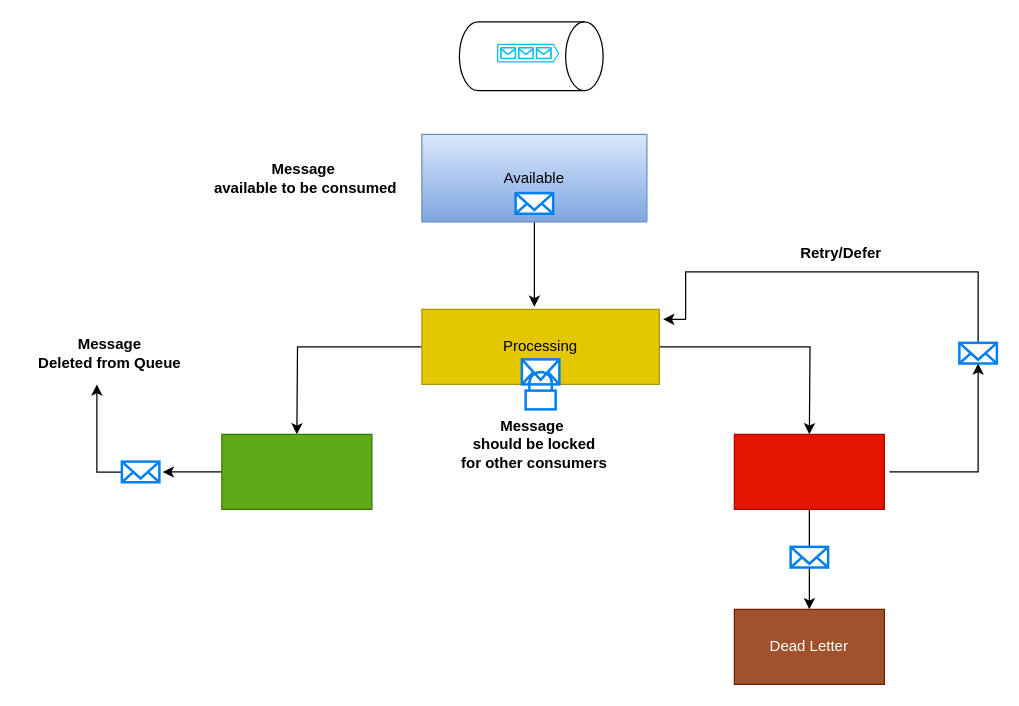
Some shapes in this 1019 by 706 pixel diagram are drawn without their labels. Here are the shapes that lost their labels. From the top down, the centre of each, then its label:
(x=296, y=471): Success
(x=808, y=471): Failure
